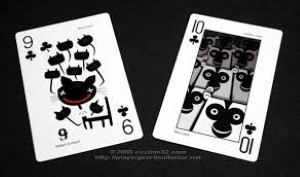NineOfClubs: (11, 11, 145, 163)
TenOfClubs: (150, 8, 284, 162)
